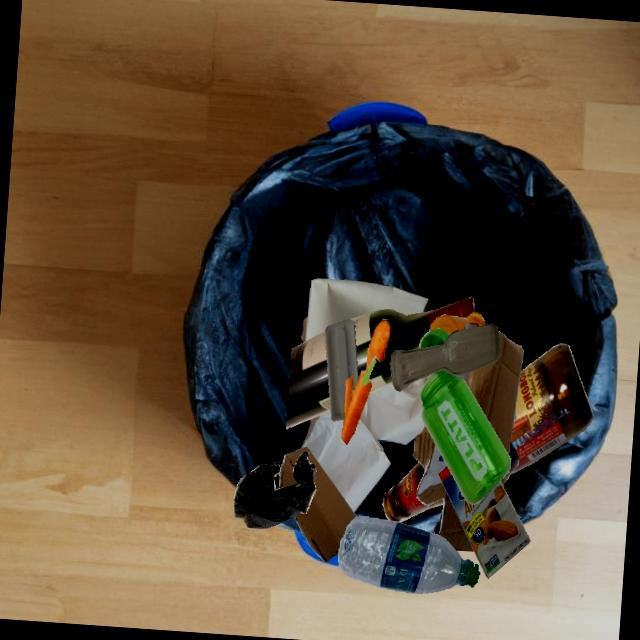biowaste: (341, 319, 391, 444)
cardboard: (426, 327, 505, 475), (438, 466, 530, 578), (278, 446, 355, 562), (453, 330, 523, 454)
glass: (349, 296, 474, 393), (510, 343, 592, 474), (390, 323, 500, 391), (285, 331, 330, 428), (504, 442, 519, 482), (434, 507, 443, 534)
paper: (299, 373, 433, 512), (305, 278, 428, 341)
plastic: (419, 370, 510, 504), (338, 515, 479, 593), (233, 451, 316, 529), (324, 319, 358, 421), (428, 311, 485, 335)
